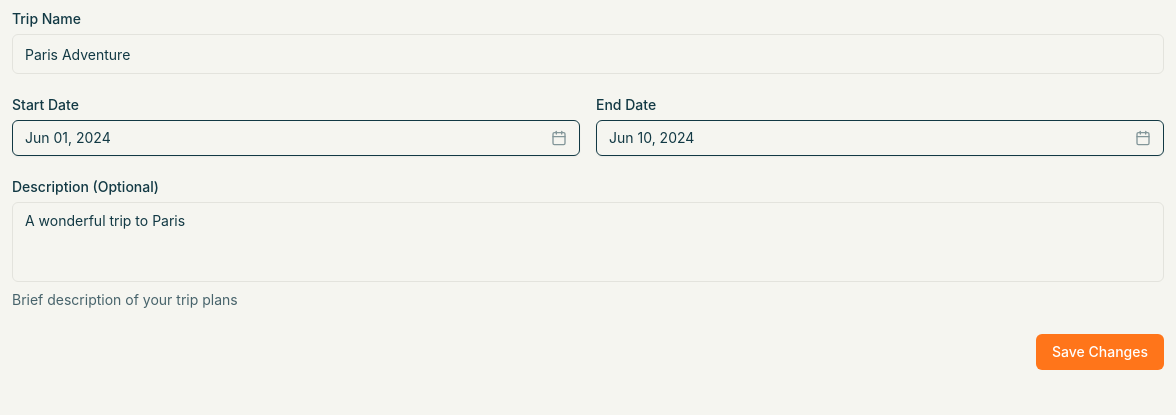
it: EditTripForm › validates required fields
// Clear the trip name (required field)
Clear the field labelled "Trip Name" at coordinates (588, 54), box [12,34,1164,74]
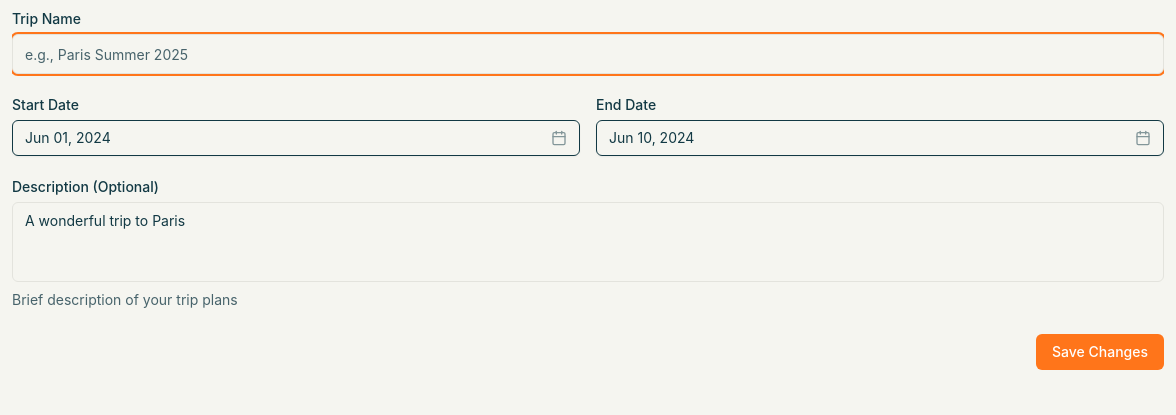
// Try to submit
Click the button "Save Changes".
click(1100, 352)  # box [1036,334,1164,370]
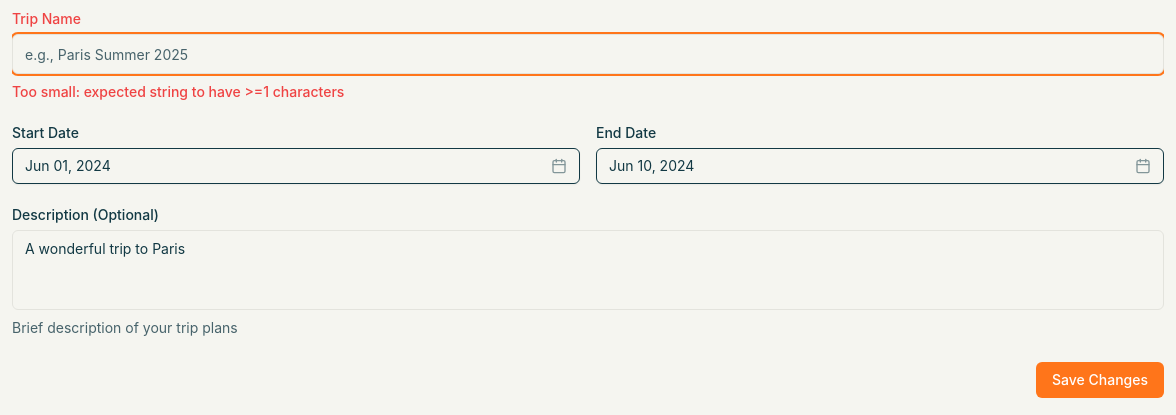
Result: the text "Too small: expected string to have >=1 characters" is shown at [12,83,344,100]
